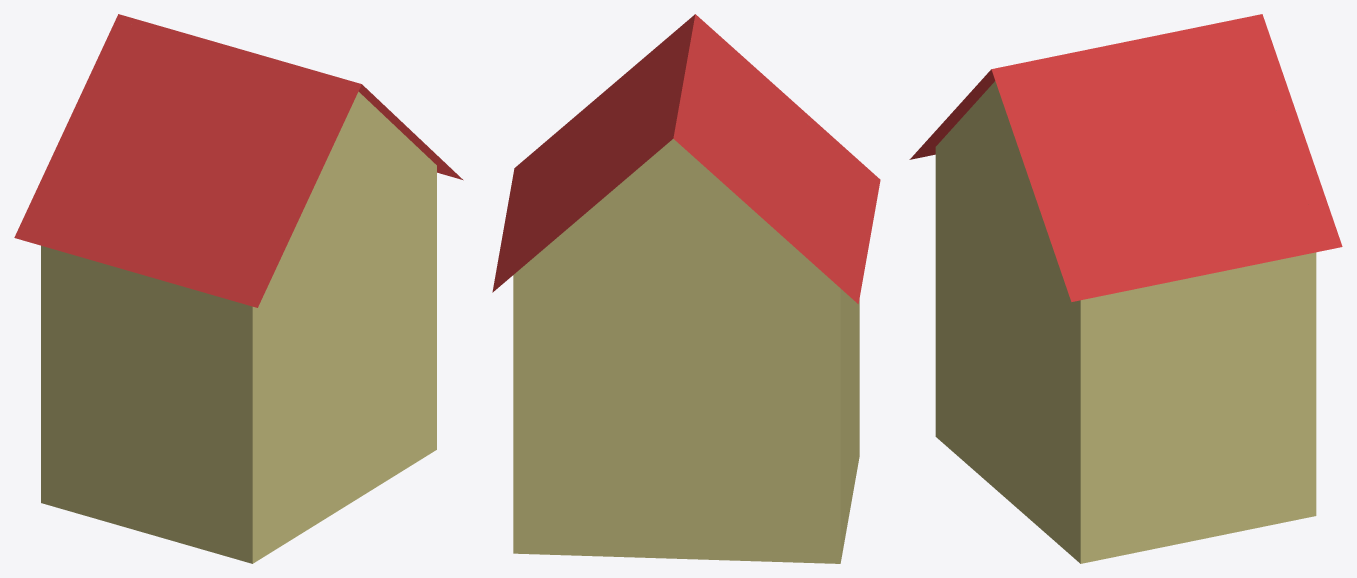
3 renders of one model, left to right at view 1: azimuth 30°, elevation 25°; view 2: azimuth 150°, elevation 25°; view 3: azimuth 270°, elevation 25°, orthographic. The views are drawn at different scales.
Size of the model in its own units: 11.8 by 10.95 by 12.15.
